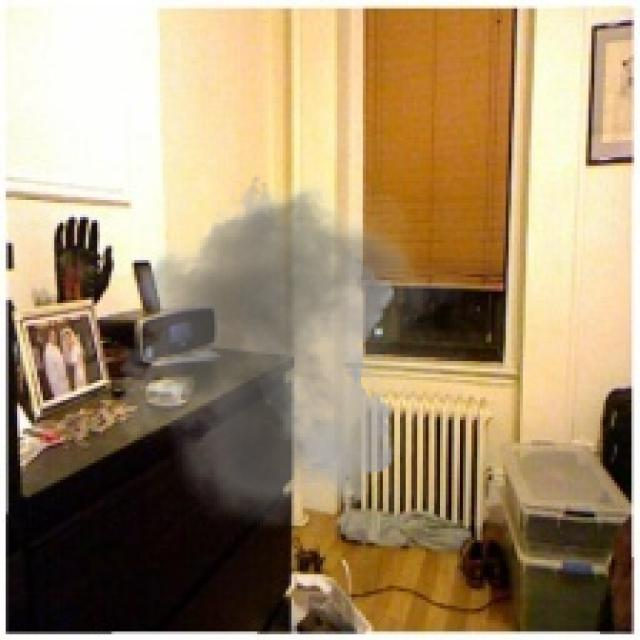smoke: (100, 163, 469, 528)
